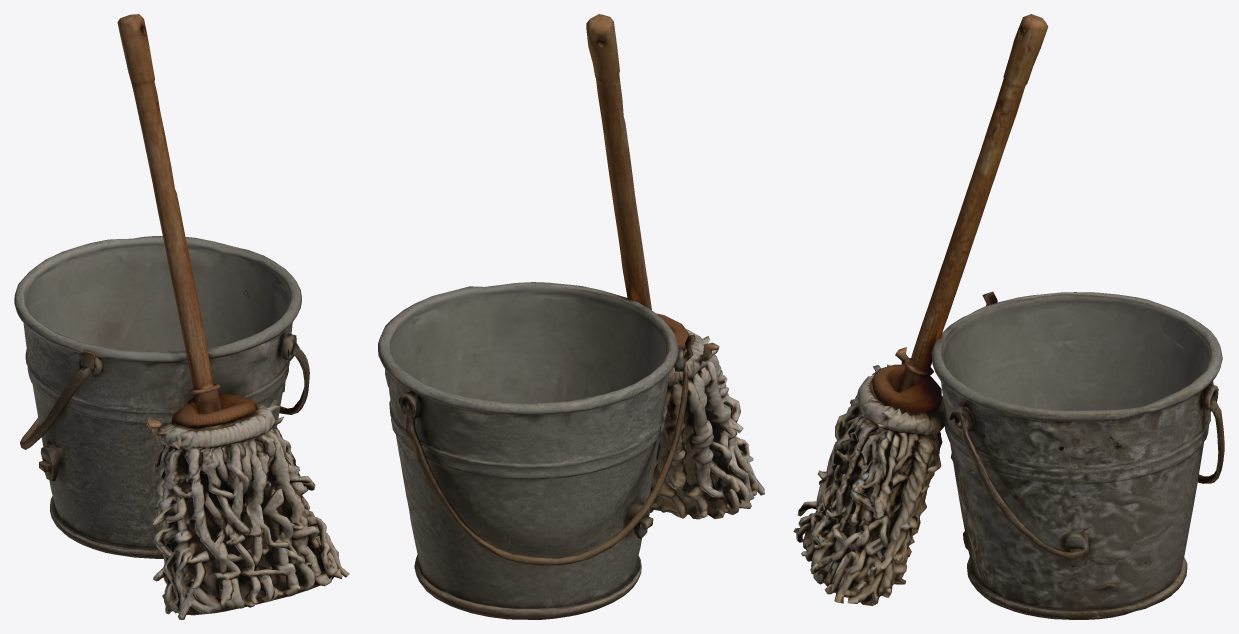
Rendered from scene-mop-bucket-v03.glb.
3 renders of one model, left to right at view 1: azimuth 30°, elevation 25°; view 2: azimuth 150°, elevation 25°; view 3: azimuth 270°, elevation 25°, orthographic. The views are drawn at different scales.
Parts seen in each view (by area): view 1: tripo_node_707e78ba-46e6-4dbd-9999-49123ccefc6b; view 2: tripo_node_707e78ba-46e6-4dbd-9999-49123ccefc6b; view 3: tripo_node_707e78ba-46e6-4dbd-9999-49123ccefc6b.
Boxes of the visible parts, x1=… form: tripo_node_707e78ba-46e6-4dbd-9999-49123ccefc6b: x1=14, y1=14, x2=349, y2=619; tripo_node_707e78ba-46e6-4dbd-9999-49123ccefc6b: x1=378, y1=14, x2=764, y2=619; tripo_node_707e78ba-46e6-4dbd-9999-49123ccefc6b: x1=793, y1=14, x2=1224, y2=619.
Bounding box in the file's own units: 0.6692 × 1.35 × 0.9833.
1 material, 1 textured.
